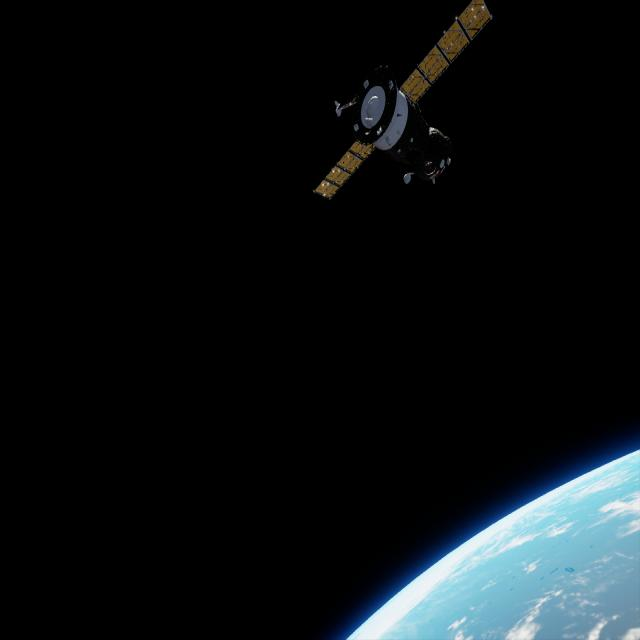Satellites revolving around earth: (344, 447, 638, 638), (310, 1, 494, 203)
